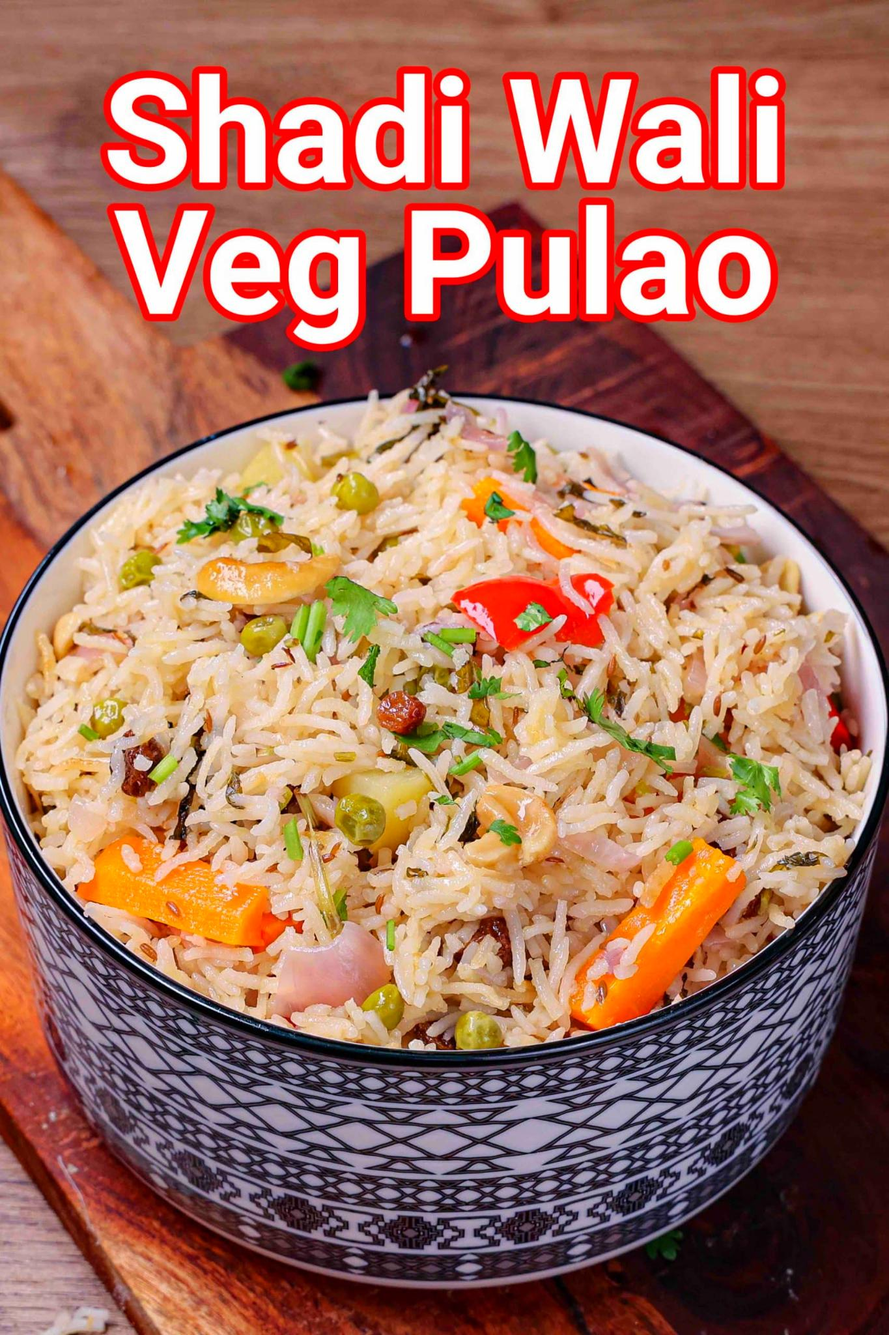veg-pulao: (116, 419, 841, 1026)
